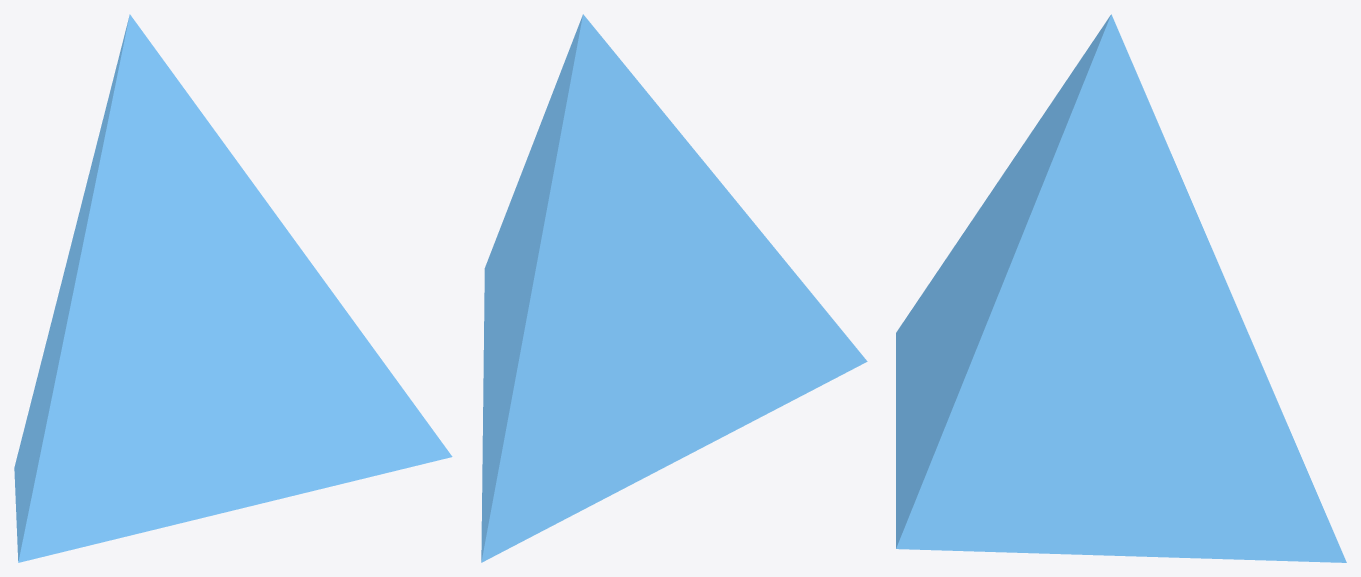
The model's file is placeholder.gltf.
The picture shows the model from 3 angles, left to right: view 1: azimuth 30°, elevation 25°; view 2: azimuth 150°, elevation 25°; view 3: azimuth 270°, elevation 25°; orthographic projection. The views are drawn at different scales.
Visible parts, largest first — view 1: Placeholder; view 2: Placeholder; view 3: Placeholder.
Part boxes in pixels (box(x1,y1,x2,y2)): Placeholder: box(14, 14, 452, 562); Placeholder: box(481, 14, 867, 562); Placeholder: box(896, 14, 1346, 562).
Size of the model in its own units: 0.76 by 0.9 by 0.67.
